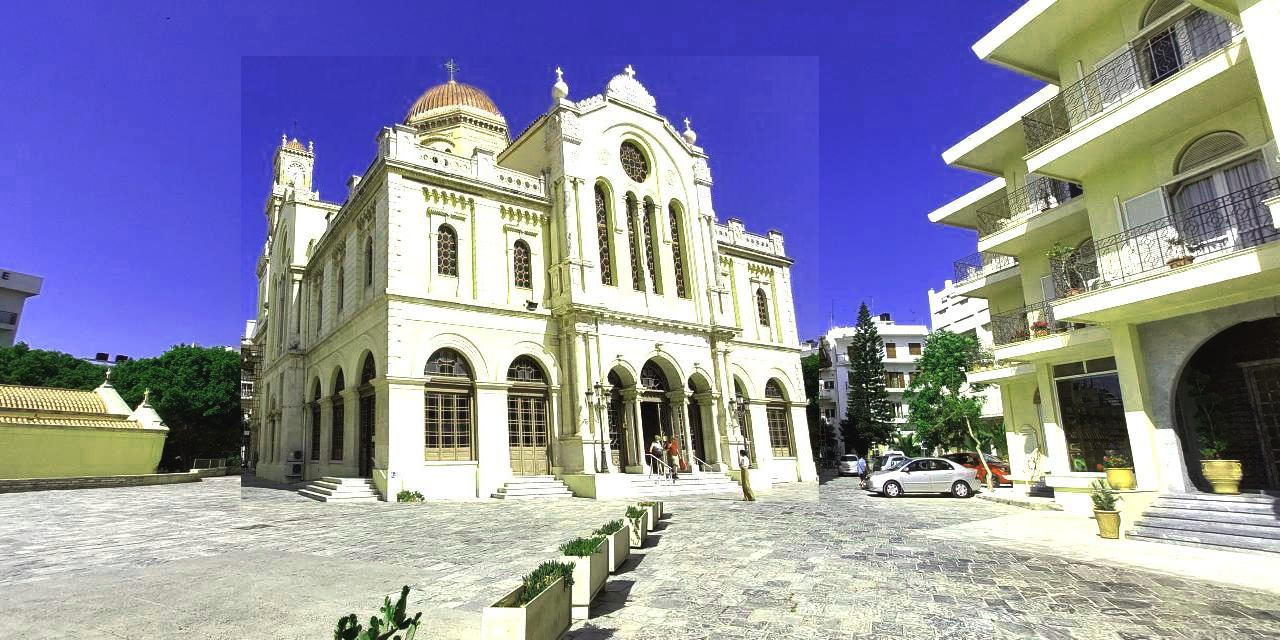Agios Minas: (242, 57, 820, 503)
